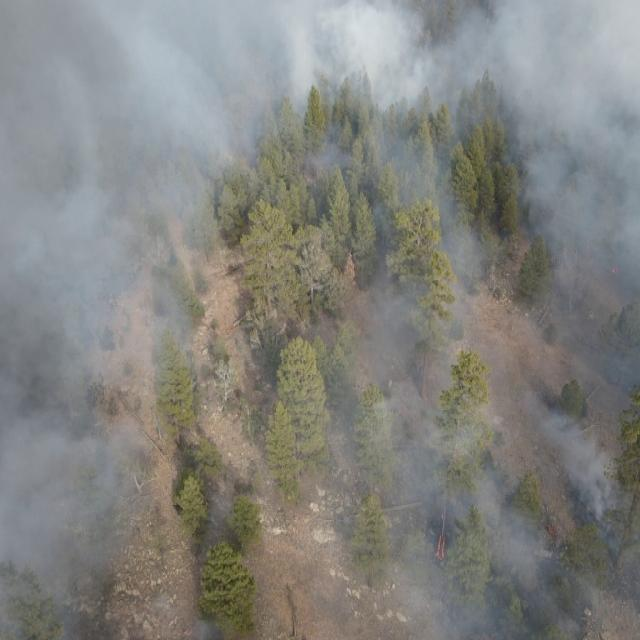fire: (424, 515, 462, 585), (537, 501, 565, 551), (600, 249, 627, 289)
smoke: (0, 0, 234, 640), (313, 206, 640, 640), (233, 2, 640, 204), (233, 407, 317, 640)
